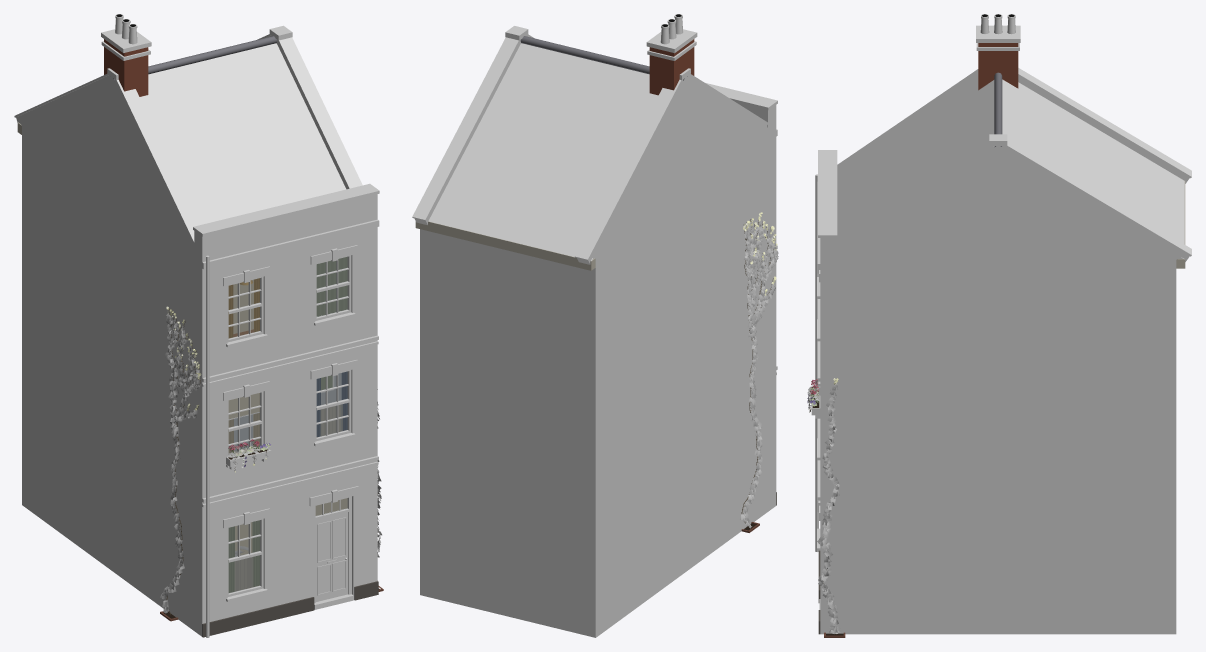
Rendered from GateStreet_BehindOuter4.glb.
The picture shows the model from 3 angles, left to right: view 1: azimuth 30°, elevation 25°; view 2: azimuth 150°, elevation 25°; view 3: azimuth 270°, elevation 25°; orthographic projection.
Visible parts, largest first — view 1: GateStreet_BehindOuter4; view 2: GateStreet_BehindOuter4; view 3: GateStreet_BehindOuter4.
Part boxes in pixels (x1=…): GateStreet_BehindOuter4: x1=14, y1=14, x2=383, y2=637; GateStreet_BehindOuter4: x1=412, y1=14, x2=778, y2=637; GateStreet_BehindOuter4: x1=807, y1=14, x2=1191, y2=637.
Size of the model in its own units: 4.9 by 13.4 by 8.65.
